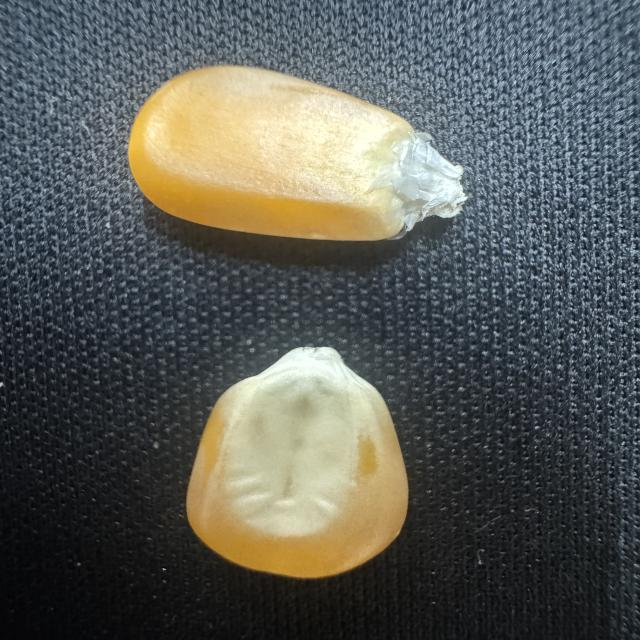Good-Seed: (125, 61, 473, 248), (179, 342, 414, 582)
